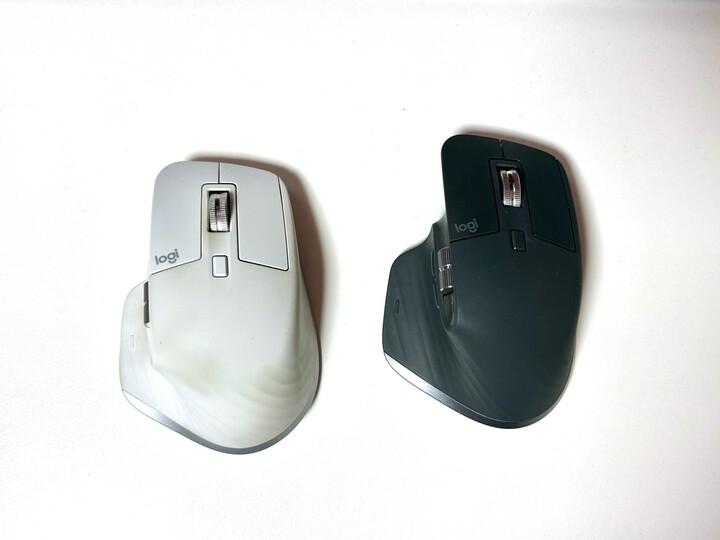mouse: (381, 131, 584, 429), (118, 158, 321, 454)
